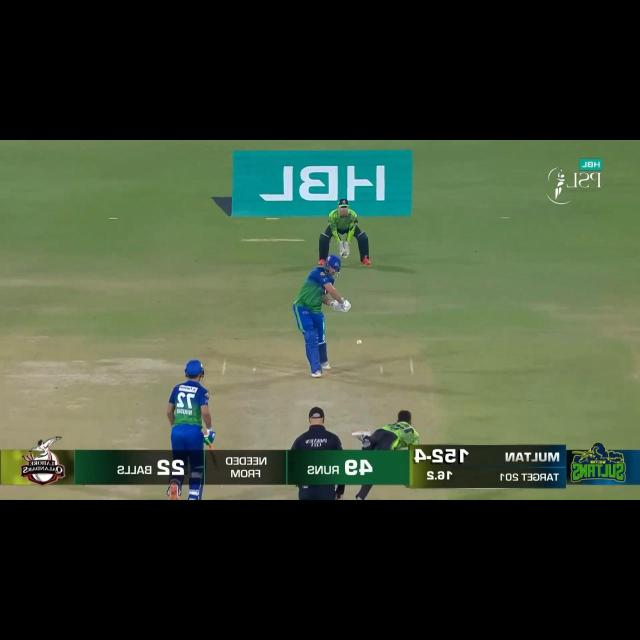bat: (328, 296, 340, 307)
